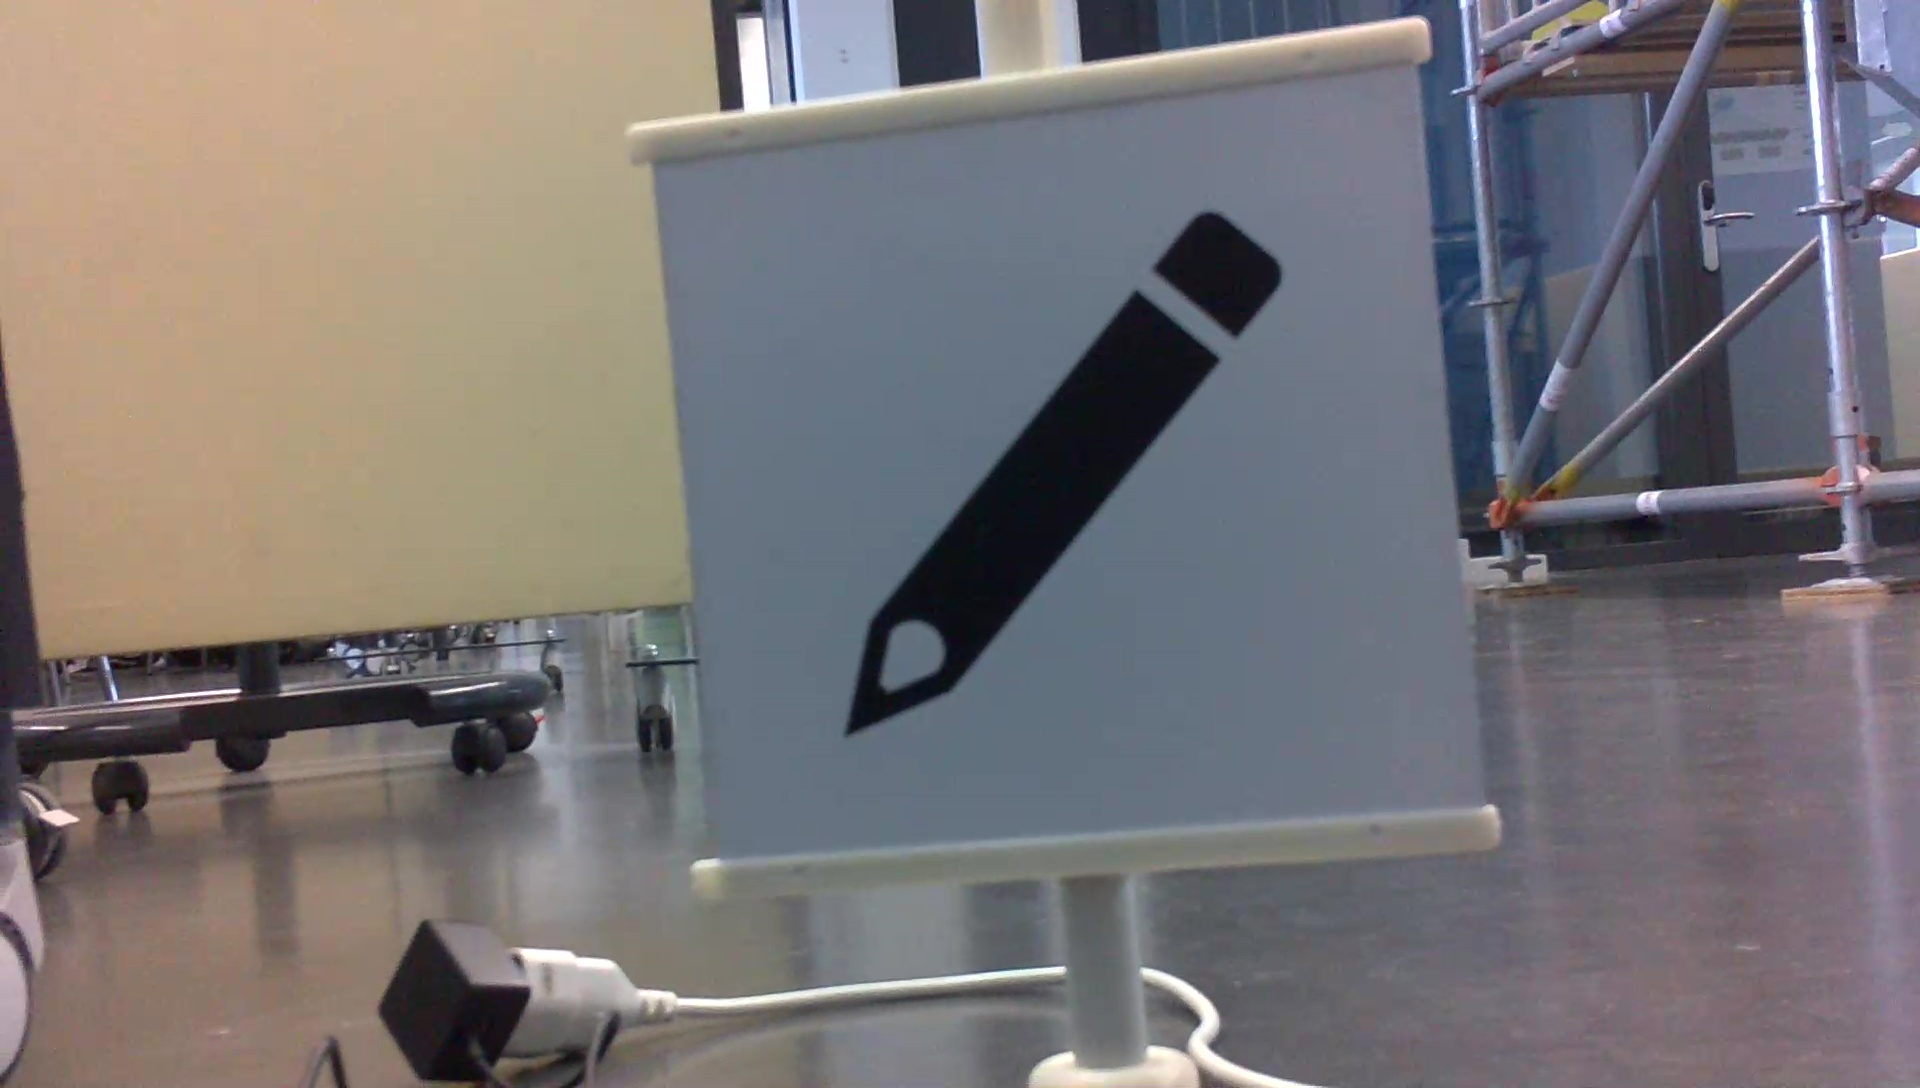pencil: (827, 190, 1309, 745)
